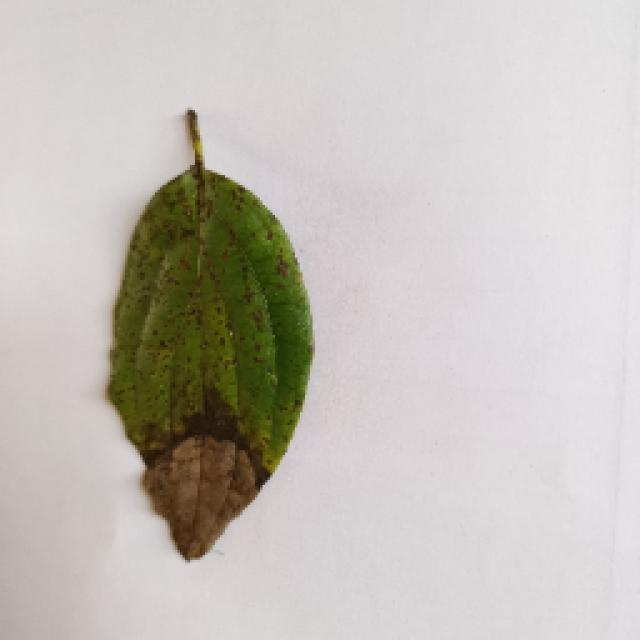footrot: (102, 117, 312, 565)
